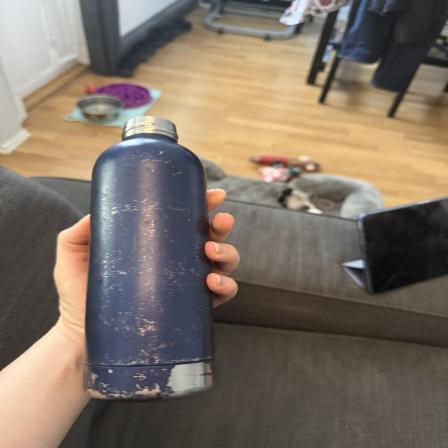blue_bottle: (88, 115, 213, 398)
